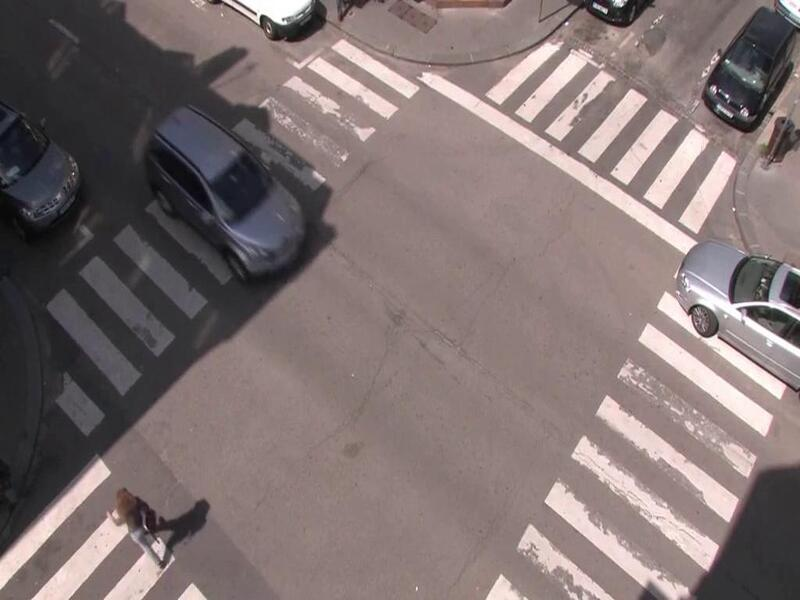car: (140, 102, 308, 282)
